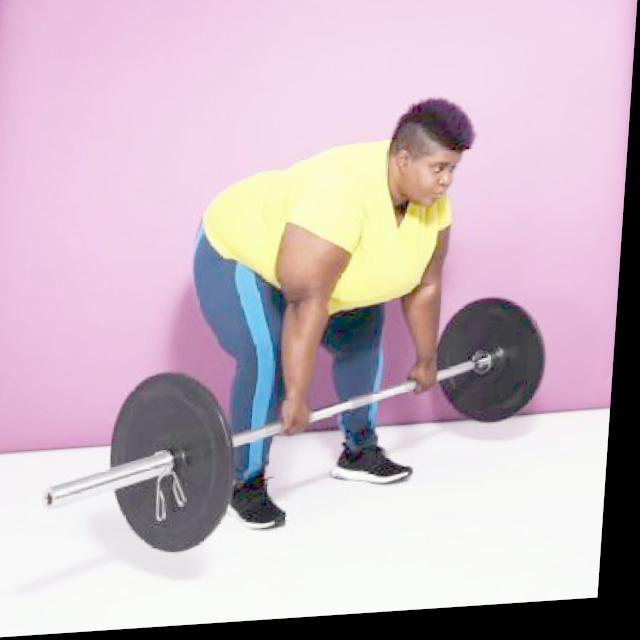barbell: (44, 366, 249, 568)
